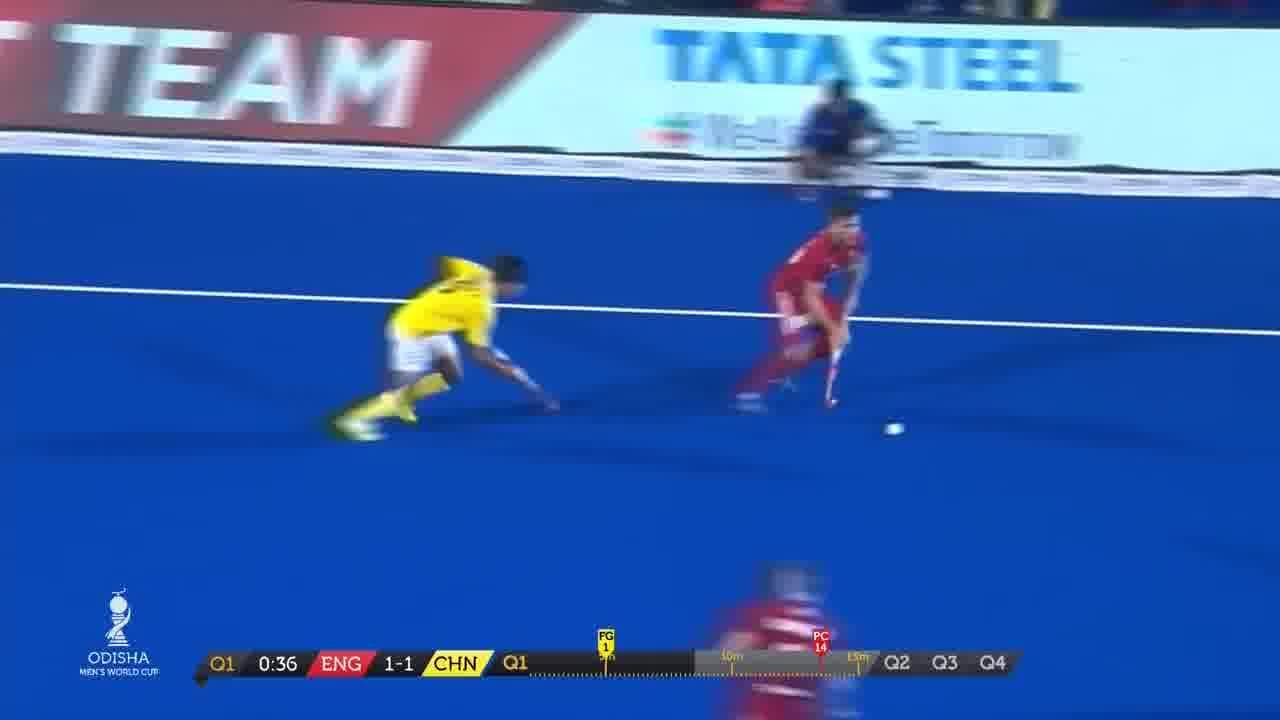ball: (877, 412, 912, 443)
